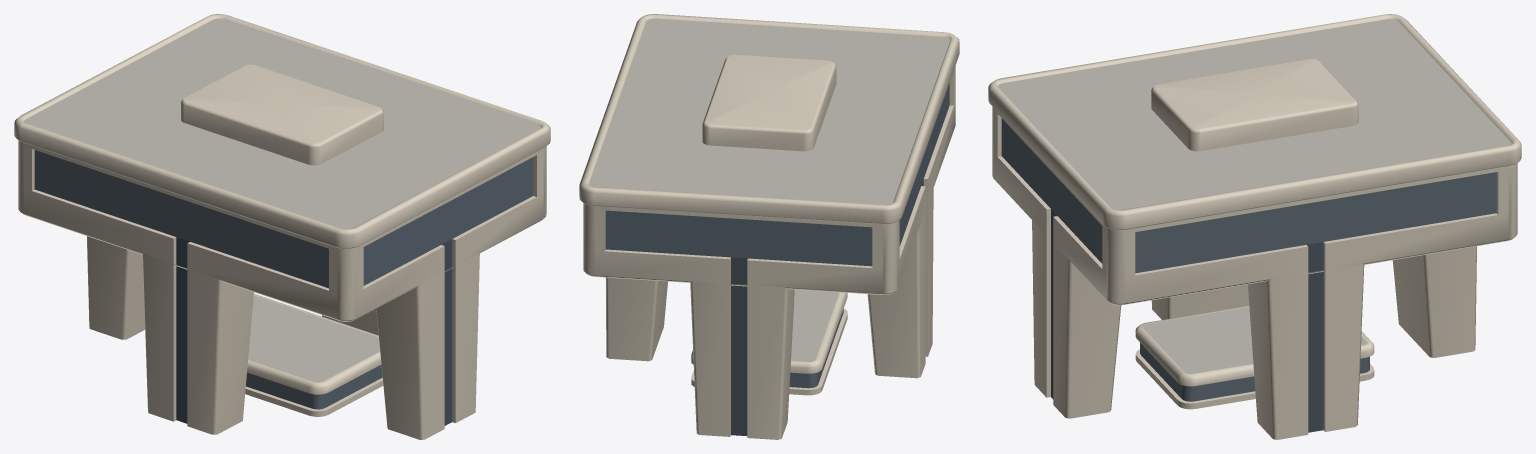
3 renders of one model, left to right at view 1: azimuth 30°, elevation 25°; view 2: azimuth 150°, elevation 25°; view 3: azimuth 270°, elevation 25°, orthographic. The views are drawn at different scales.
Visible parts, largest first — view 1: terrace-on-the-park; view 2: terrace-on-the-park; view 3: terrace-on-the-park.
Boxes of the visible parts, left/top/right/bottom form: terrace-on-the-park: left=14, top=14, right=550, bottom=439; terrace-on-the-park: left=579, top=14, right=959, bottom=439; terrace-on-the-park: left=988, top=14, right=1521, bottom=439.
Bounding box in the file's own units: 67.69 × 43 × 76.03.
